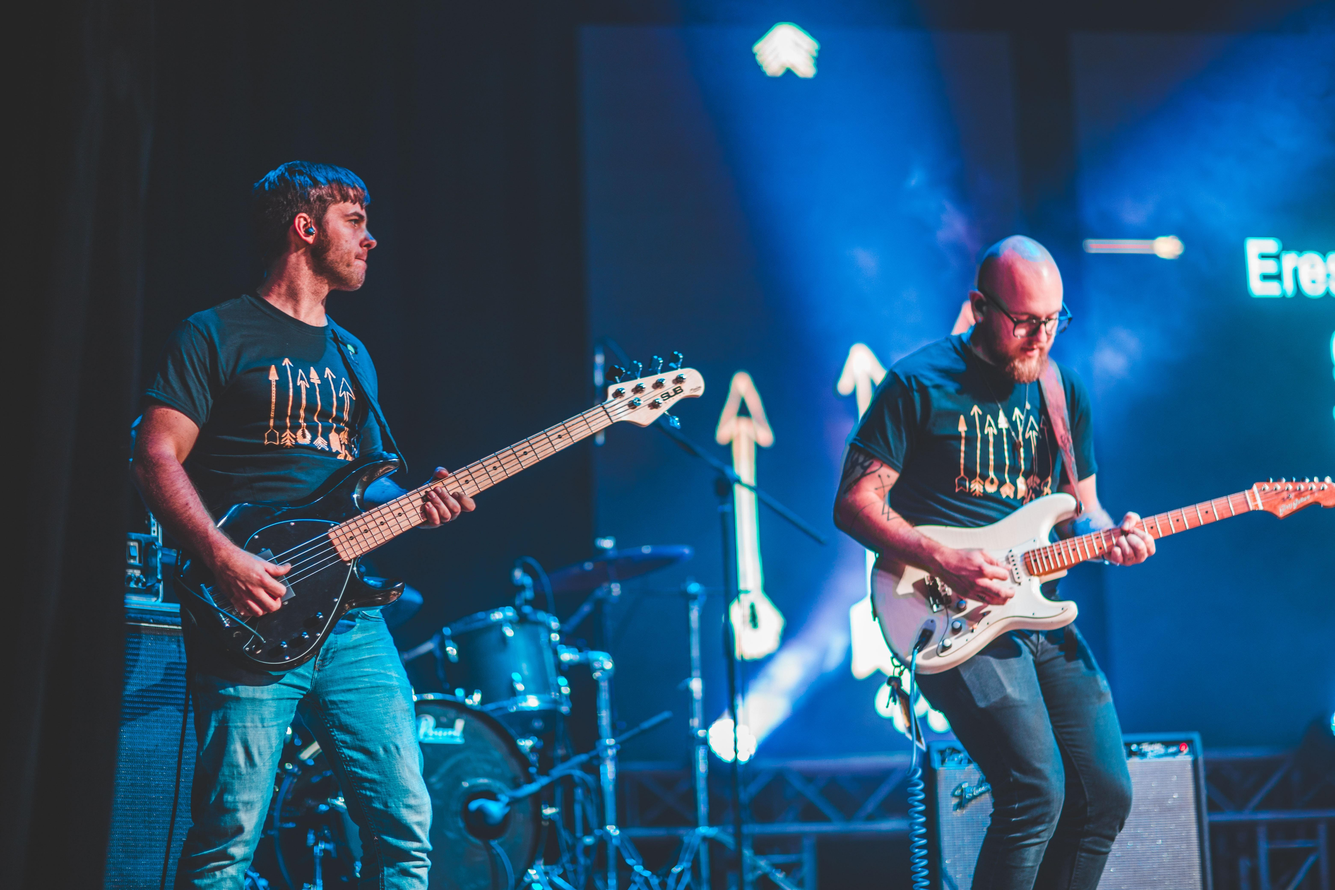acousticguitar: (178, 344, 718, 676), (868, 477, 1333, 678)
